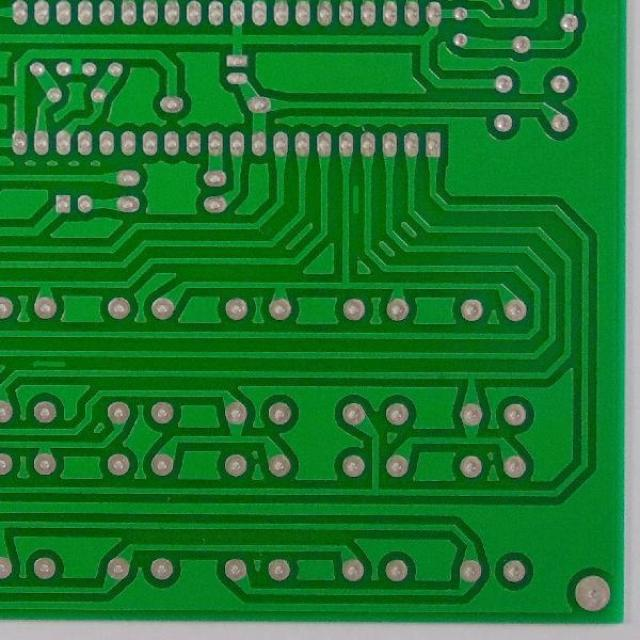spurious_copper: (30, 356, 67, 374), (350, 181, 361, 218)
